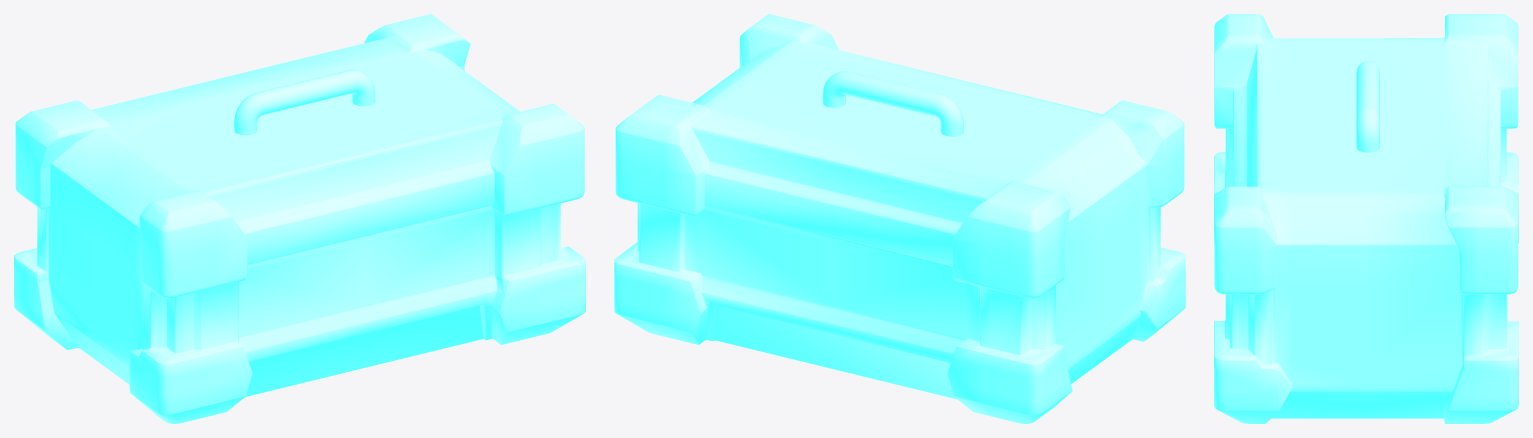
File: scifiammobox01.glb
3 renders of one model, left to right at view 1: azimuth 30°, elevation 25°; view 2: azimuth 150°, elevation 25°; view 3: azimuth 270°, elevation 25°, orthographic.
Parts seen in each view (by area): view 1: SciFiAmmoBox01; view 2: SciFiAmmoBox01; view 3: SciFiAmmoBox01.
Boxes of the visible parts, <box> form: SciFiAmmoBox01: <box>14,14,585,423</box>; SciFiAmmoBox01: <box>614,14,1185,423</box>; SciFiAmmoBox01: <box>1214,14,1518,423</box>.
Bounding box in the file's own units: 0.6341 × 0.3508 × 0.392.
